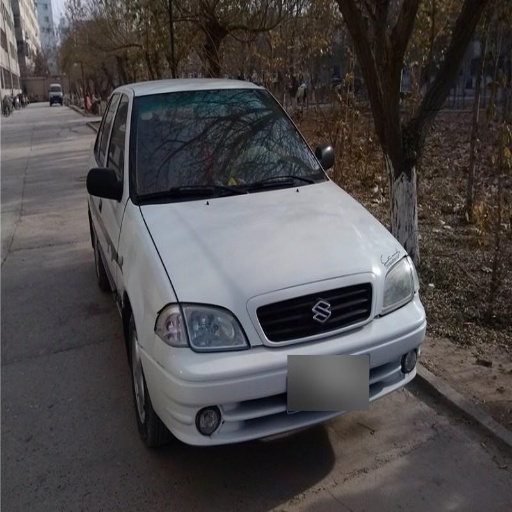front_bumper: (136, 268, 424, 442)
front_left_light: (381, 256, 416, 314)
front_right_door: (102, 113, 124, 267)
front_right_light: (155, 301, 245, 351)
hood: (140, 180, 404, 344)
